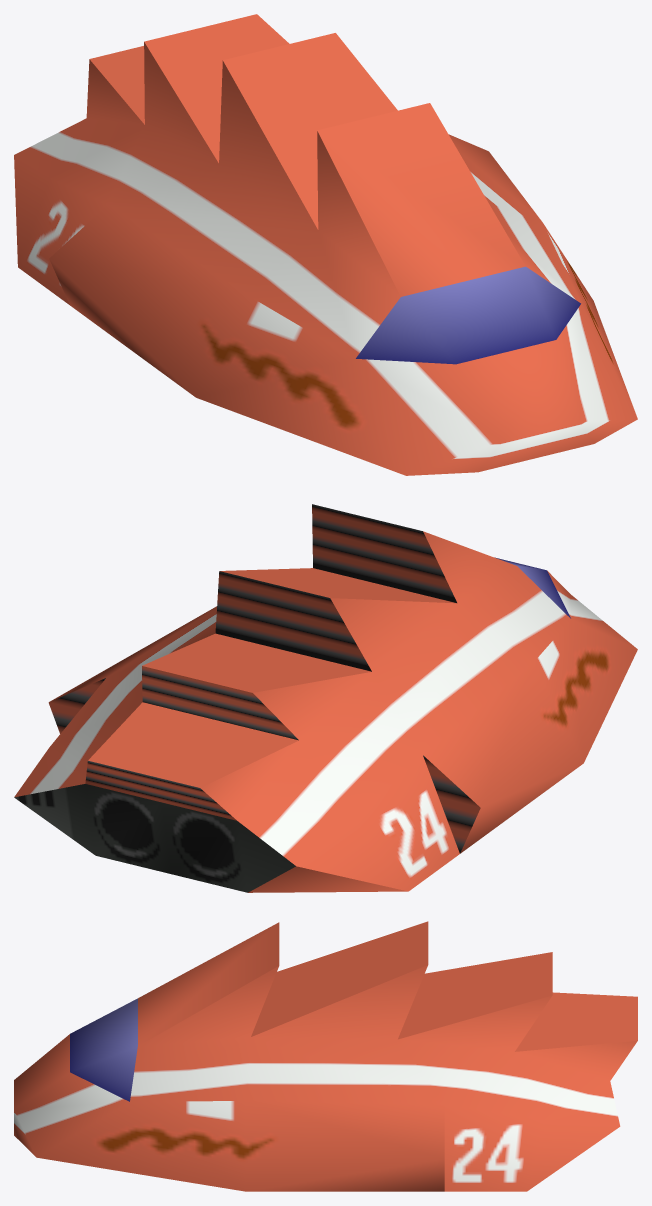
The picture shows the model from 3 angles, top to bottom: view 1: azimuth 30°, elevation 25°; view 2: azimuth 150°, elevation 25°; view 3: azimuth 270°, elevation 25°; orthographic projection. The views are drawn at different scales.
Parts seen in each view (by area): view 1: Joint_0_Object_0; view 2: Joint_0_Object_0; view 3: Joint_0_Object_0.
Part boxes in pixels (left/top/right/bottom): Joint_0_Object_0: left=14, top=14, right=637, bottom=475; Joint_0_Object_0: left=14, top=504, right=637, bottom=892; Joint_0_Object_0: left=14, top=921, right=637, bottom=1191.
Size of the model in its own units: 35.48 by 16.81 by 55.25.
Materials: 1 (1 with a texture image).
